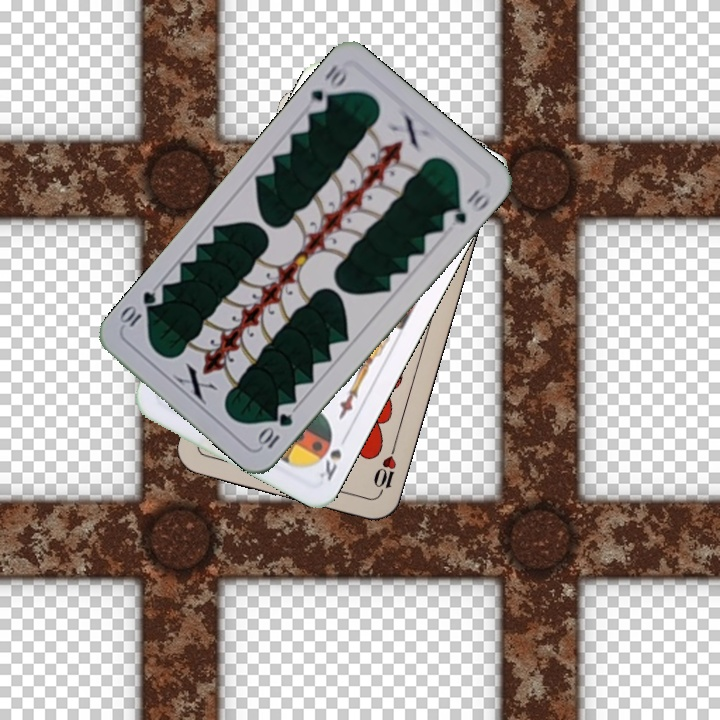G10: (306, 60, 352, 116), (254, 409, 296, 451)
H10: (369, 441, 399, 499)
SK: (315, 445, 344, 484)
